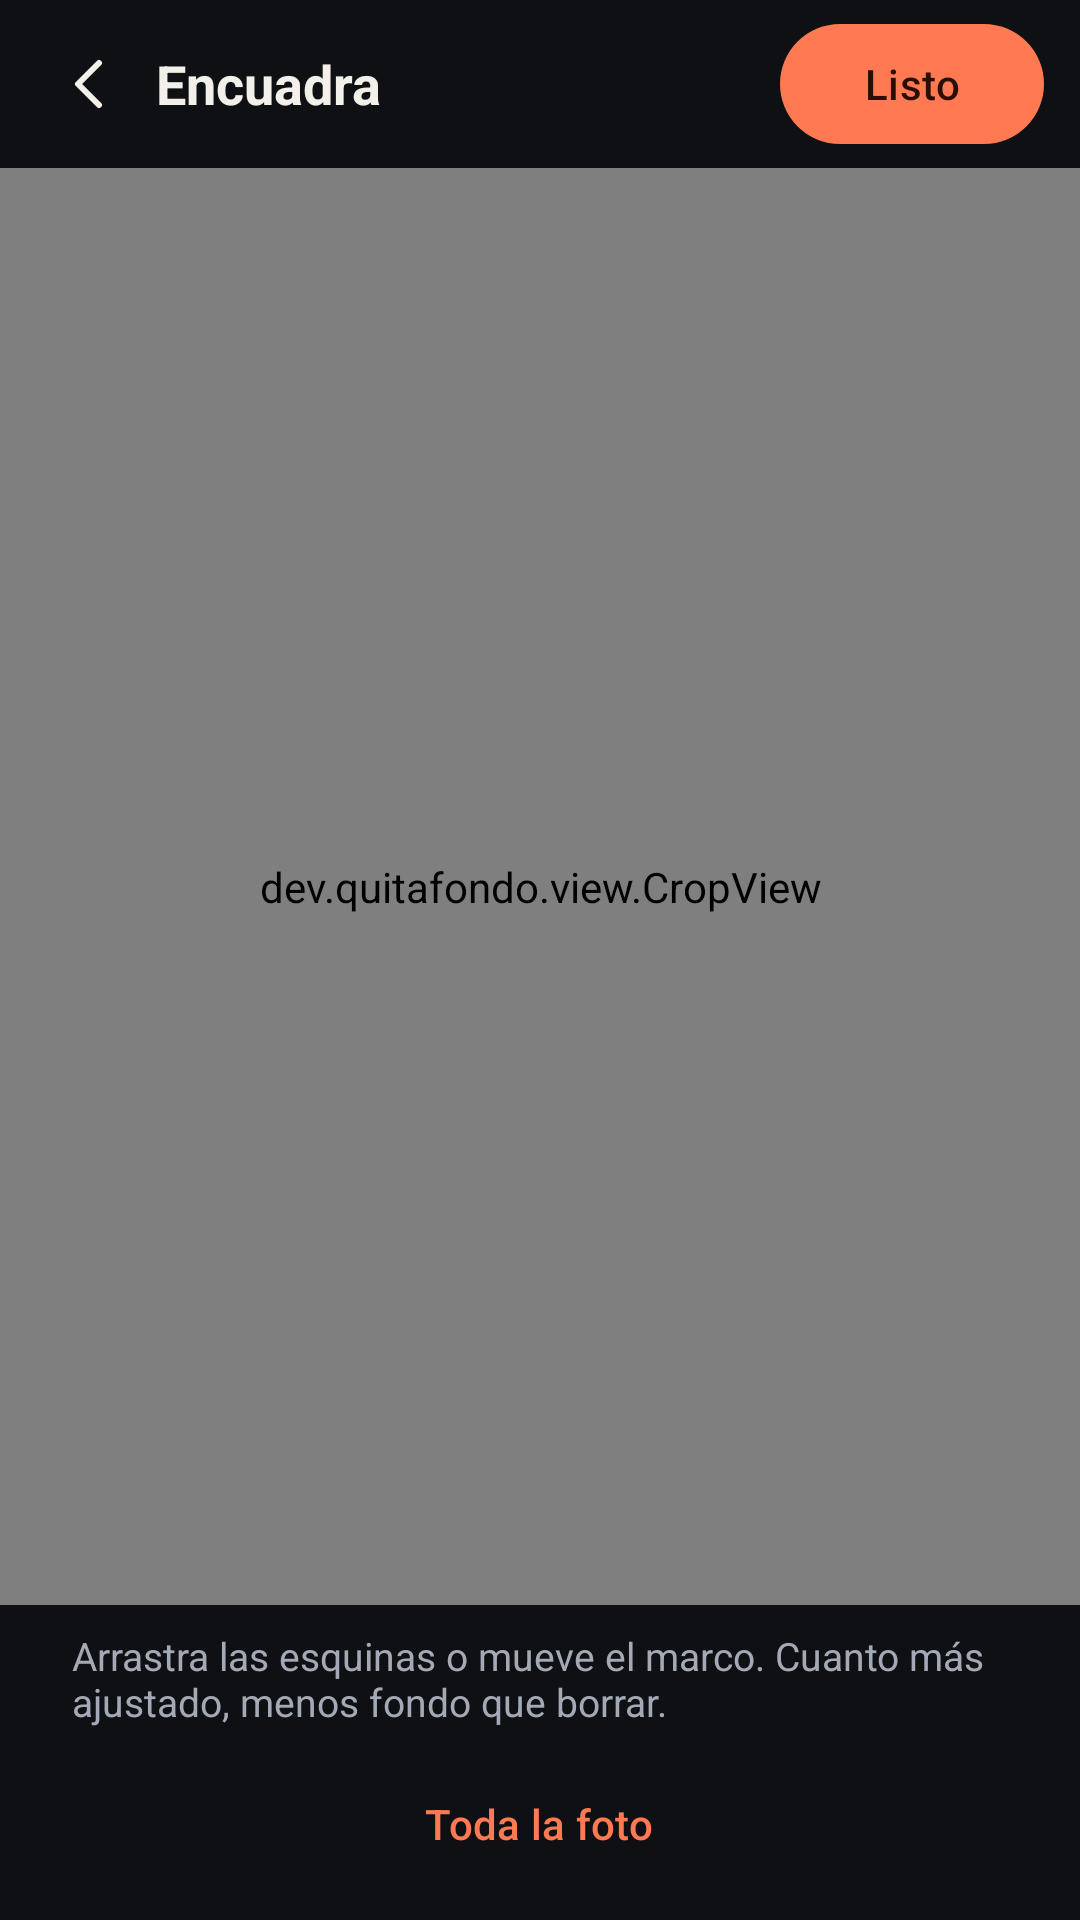

Icons on this 1080×1920 Android screen, each with the point to tap as (x,y):
Atrás: (88,84)
